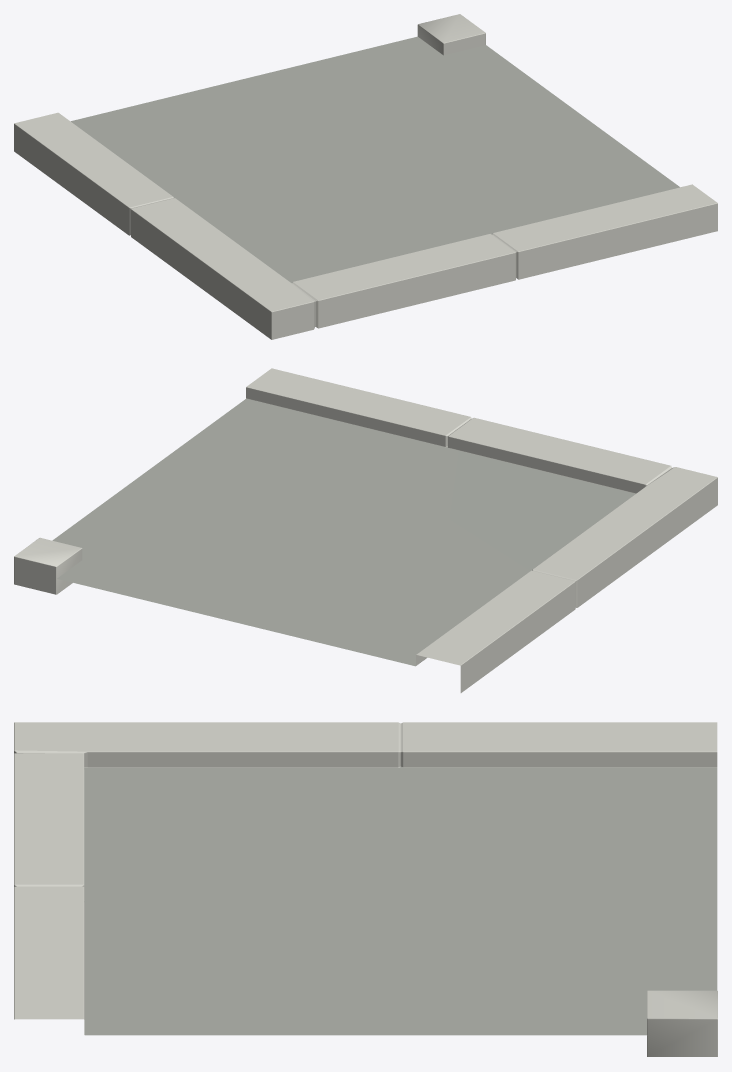
Rendered from CornerSidewalk.fbx.
3 views of the same model, one above another, from view 1: azimuth 30°, elevation 25°; view 2: azimuth 150°, elevation 25°; view 3: azimuth 270°, elevation 25° (orthographic). The views are drawn at different scales.
Visible parts, largest first — view 1: Corner; view 2: Corner; view 3: Corner.
Part boxes in pixels (x1=…): Corner: x1=14, y1=14, x2=717, y2=339; Corner: x1=14, y1=368, x2=717, y2=692; Corner: x1=14, y1=722, x2=717, y2=1056.
Bounding box in the file's own units: 200 × 12.17 × 200.
